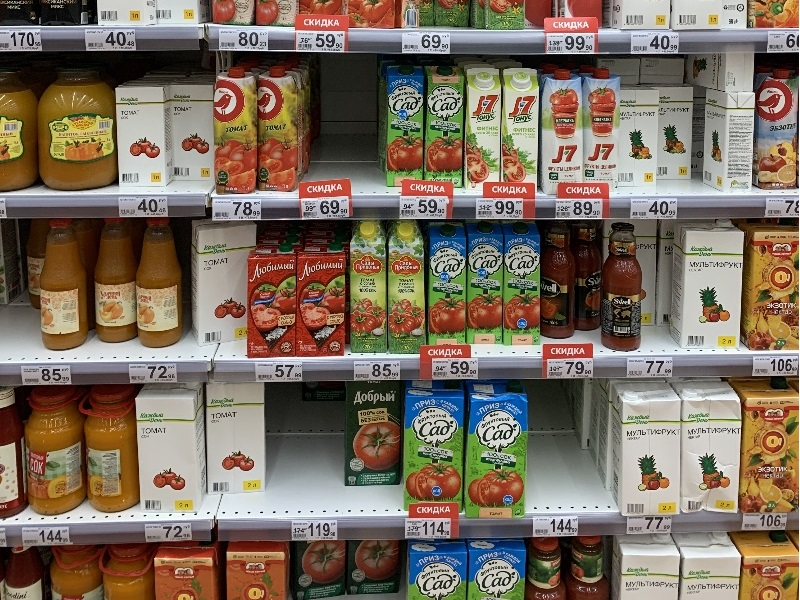juice: (460, 380, 538, 521), (401, 382, 475, 508), (339, 376, 408, 493), (343, 219, 398, 360), (381, 222, 434, 357), (295, 237, 353, 360), (242, 242, 304, 357), (211, 66, 263, 200), (253, 66, 307, 195), (379, 63, 431, 193), (532, 66, 586, 186), (459, 63, 508, 189), (575, 64, 624, 190), (500, 219, 545, 354), (424, 222, 473, 345), (498, 65, 545, 187), (468, 218, 510, 353), (423, 63, 467, 190), (756, 67, 797, 192)
